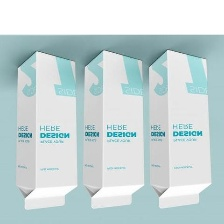carton: (146, 47, 215, 211), (13, 48, 78, 212), (82, 47, 147, 209)
